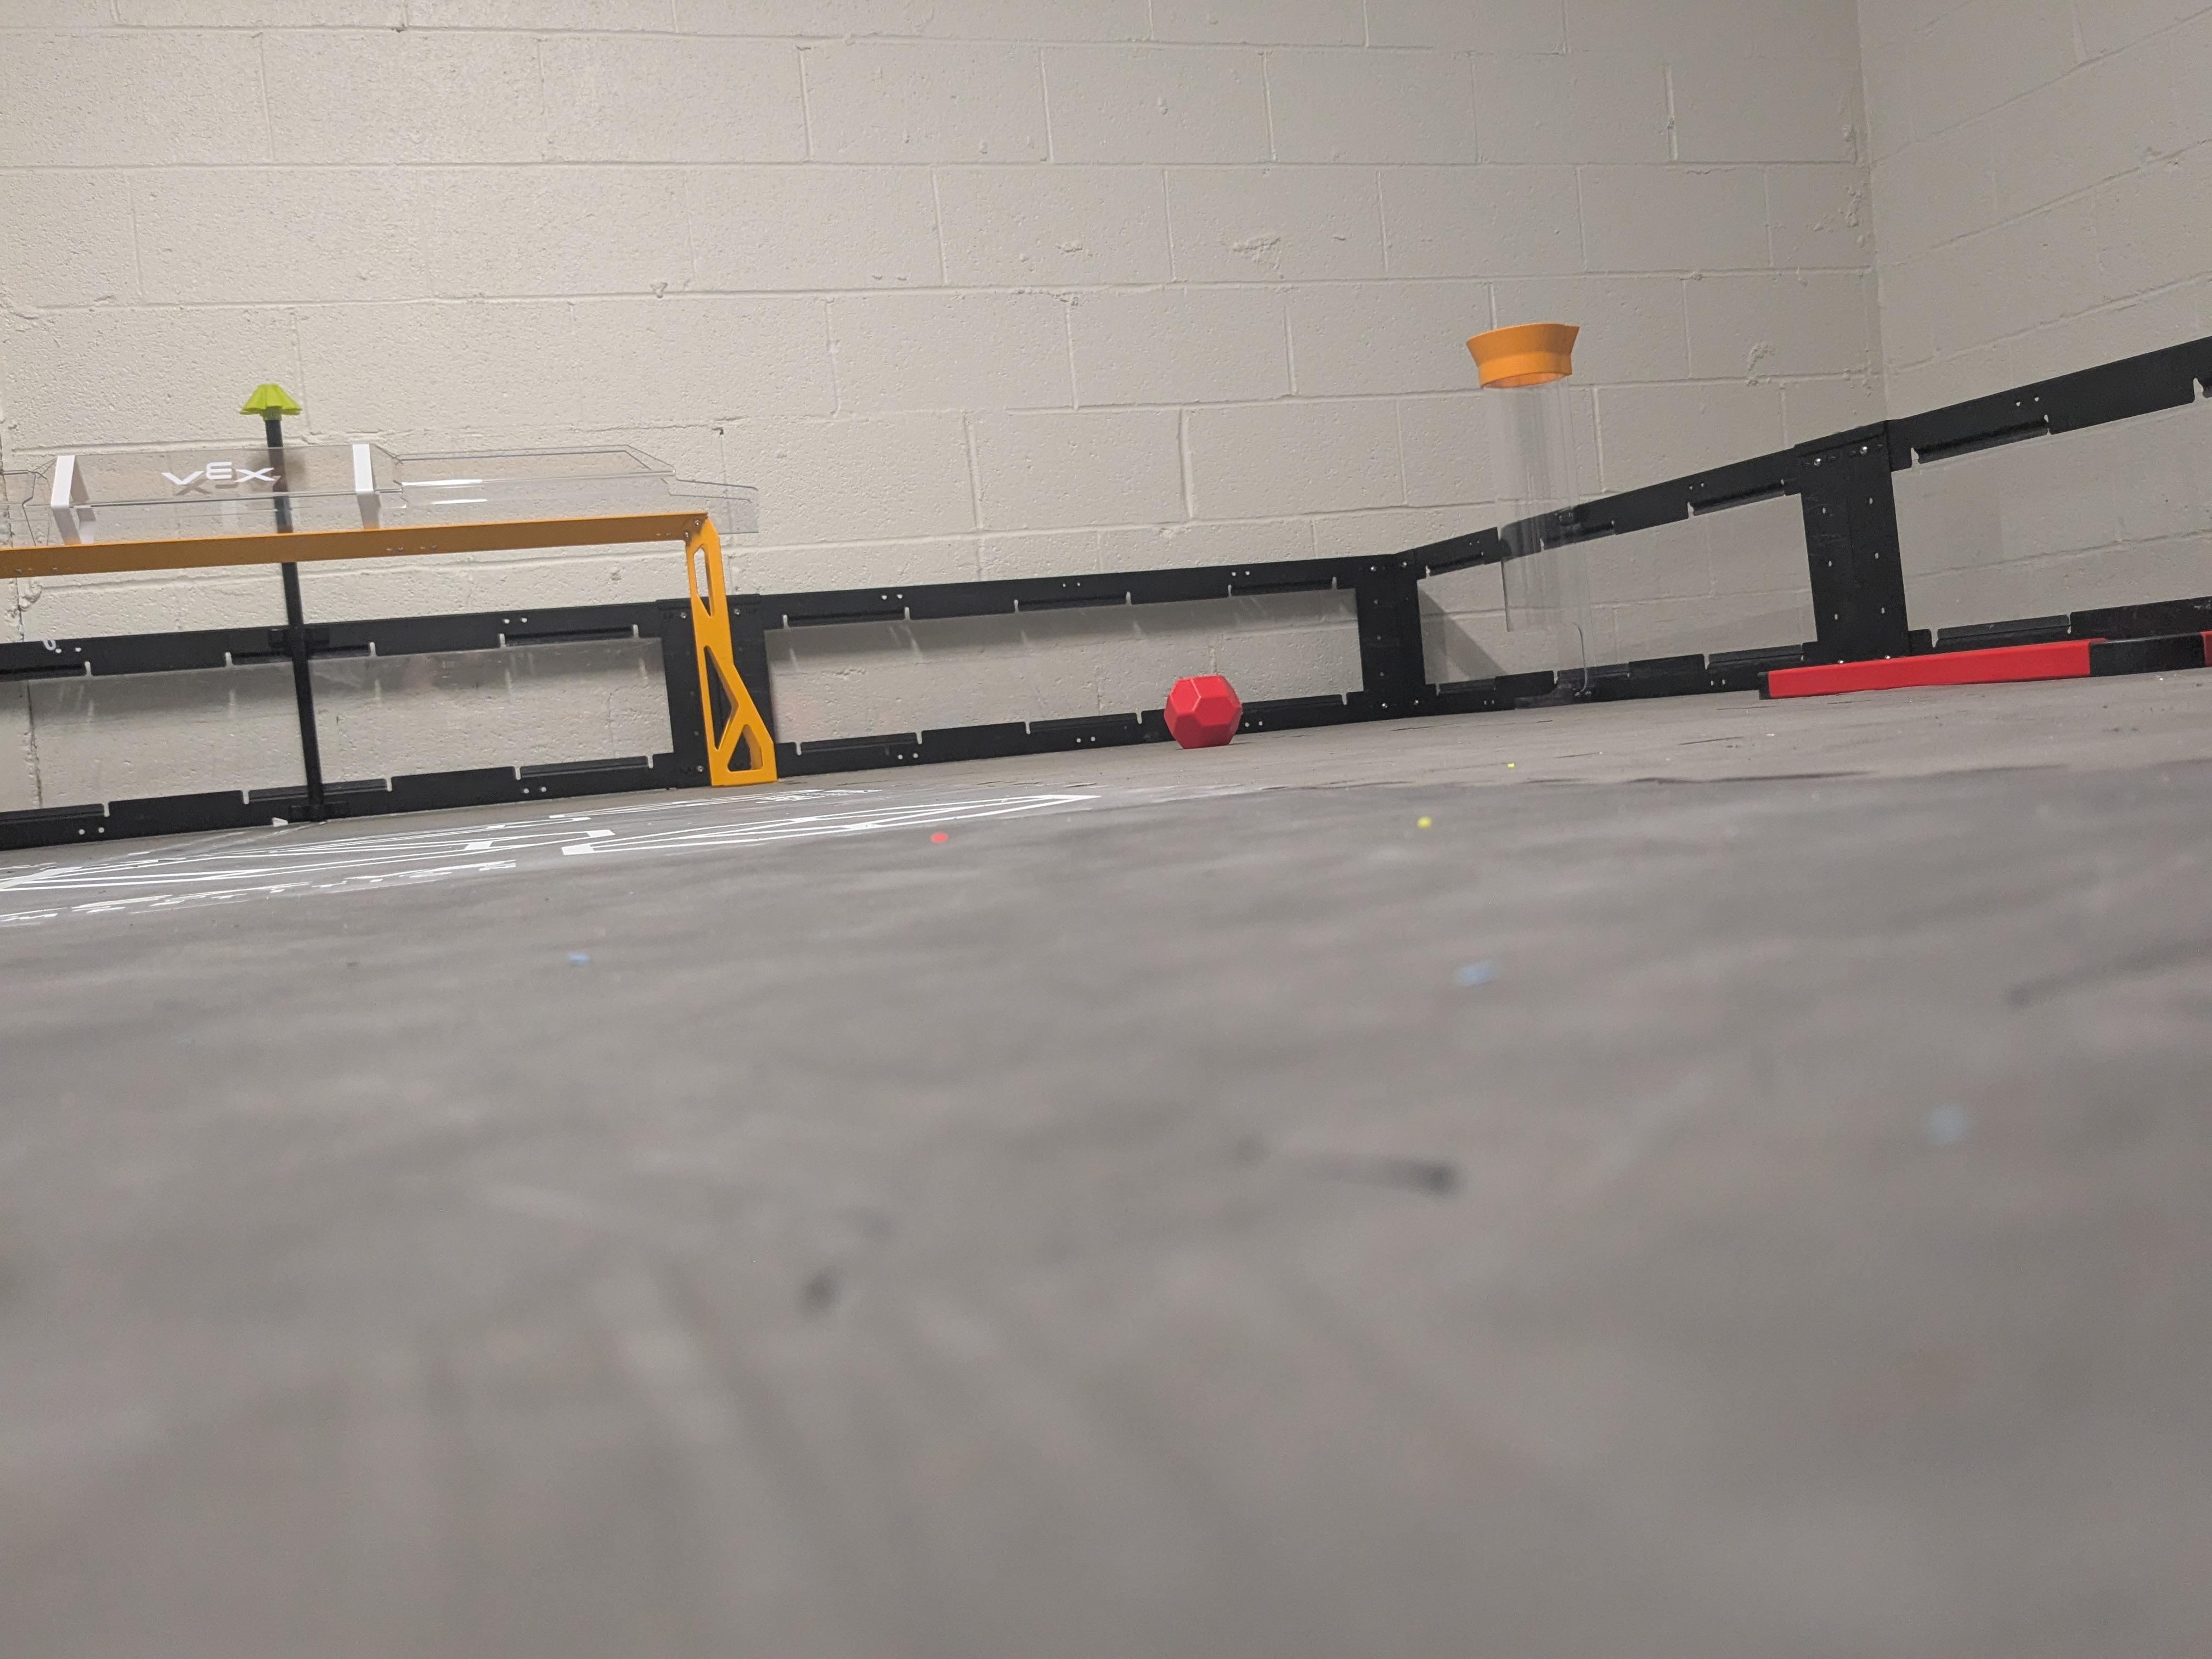Vex-Pieces-RED: (1163, 674, 1242, 748)
